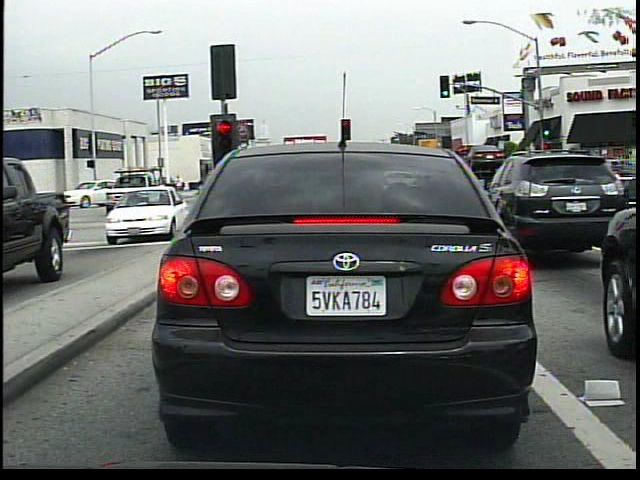person: (169, 169, 191, 194)
